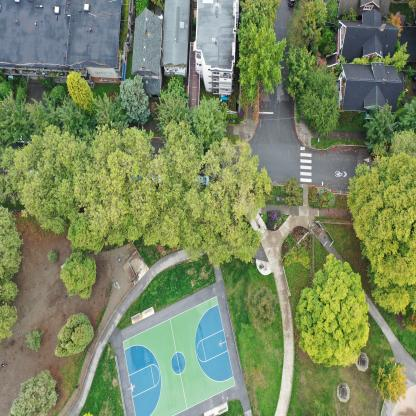Coniferous Tree: (302, 68, 338, 139), (11, 369, 58, 416), (53, 313, 95, 359), (374, 350, 407, 406), (119, 75, 151, 125), (362, 100, 390, 150), (0, 97, 34, 138), (247, 285, 278, 328), (192, 102, 229, 137), (94, 98, 128, 132), (68, 74, 96, 114), (158, 98, 192, 130), (60, 98, 91, 129), (30, 101, 58, 128), (282, 178, 304, 206), (398, 98, 416, 132), (286, 20, 304, 46), (24, 328, 44, 350), (240, 12, 255, 30), (405, 312, 416, 333), (47, 249, 58, 262)
Deciduous Tree: (183, 136, 270, 264), (350, 153, 416, 312), (298, 254, 371, 364), (68, 133, 107, 251), (147, 133, 185, 248), (21, 138, 66, 230), (107, 133, 144, 242), (237, 30, 282, 102), (60, 252, 97, 300), (0, 207, 20, 279), (286, 46, 313, 97), (1, 142, 20, 206), (0, 304, 17, 336), (0, 282, 20, 301)
